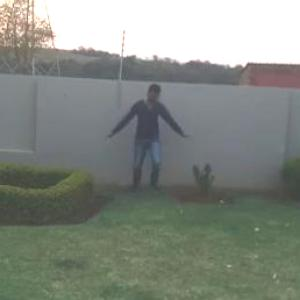land: (102, 75, 193, 201)
